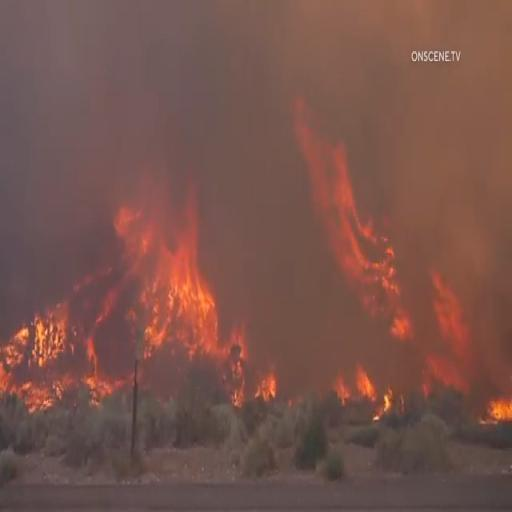fire: (82, 184, 216, 367), (0, 284, 78, 412), (206, 323, 287, 408), (336, 367, 403, 424)
smoke: (2, 3, 279, 168), (398, 82, 508, 219), (228, 182, 307, 304), (352, 22, 402, 170)
